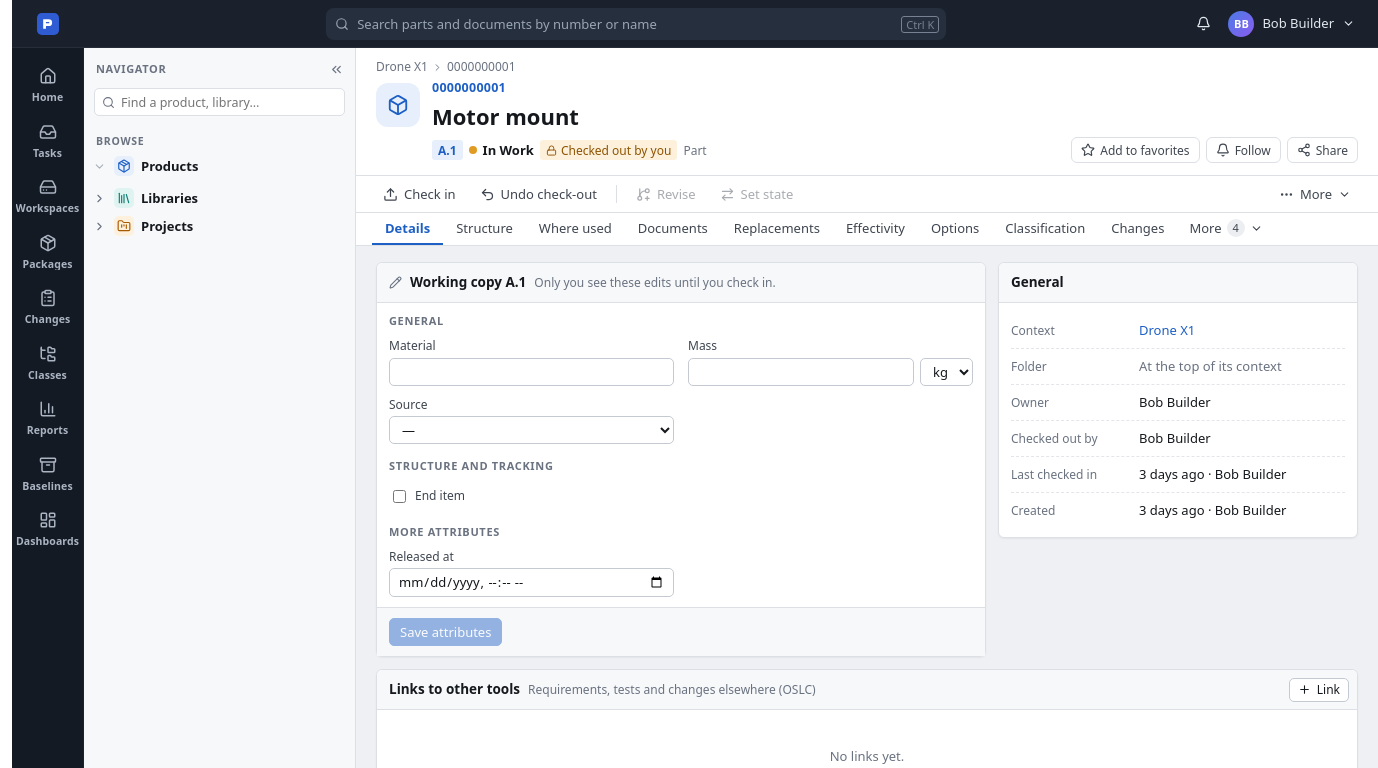
it: ObjectPage › shows server-side attribute errors next to the field
In the field labelled "Material": [532, 372] box [389,358,674,386], type "x"
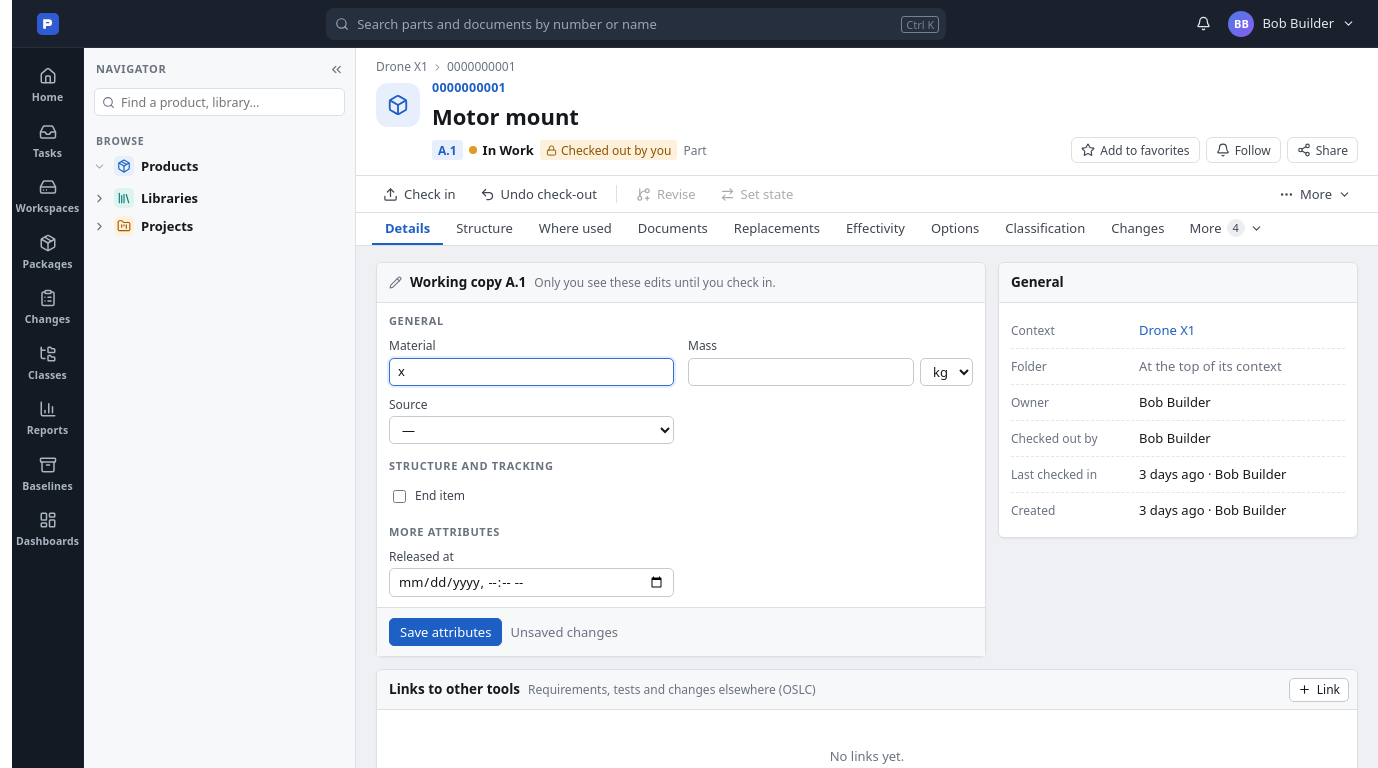
Click the button "Save attributes": [446, 632] box [389,618,502,646]
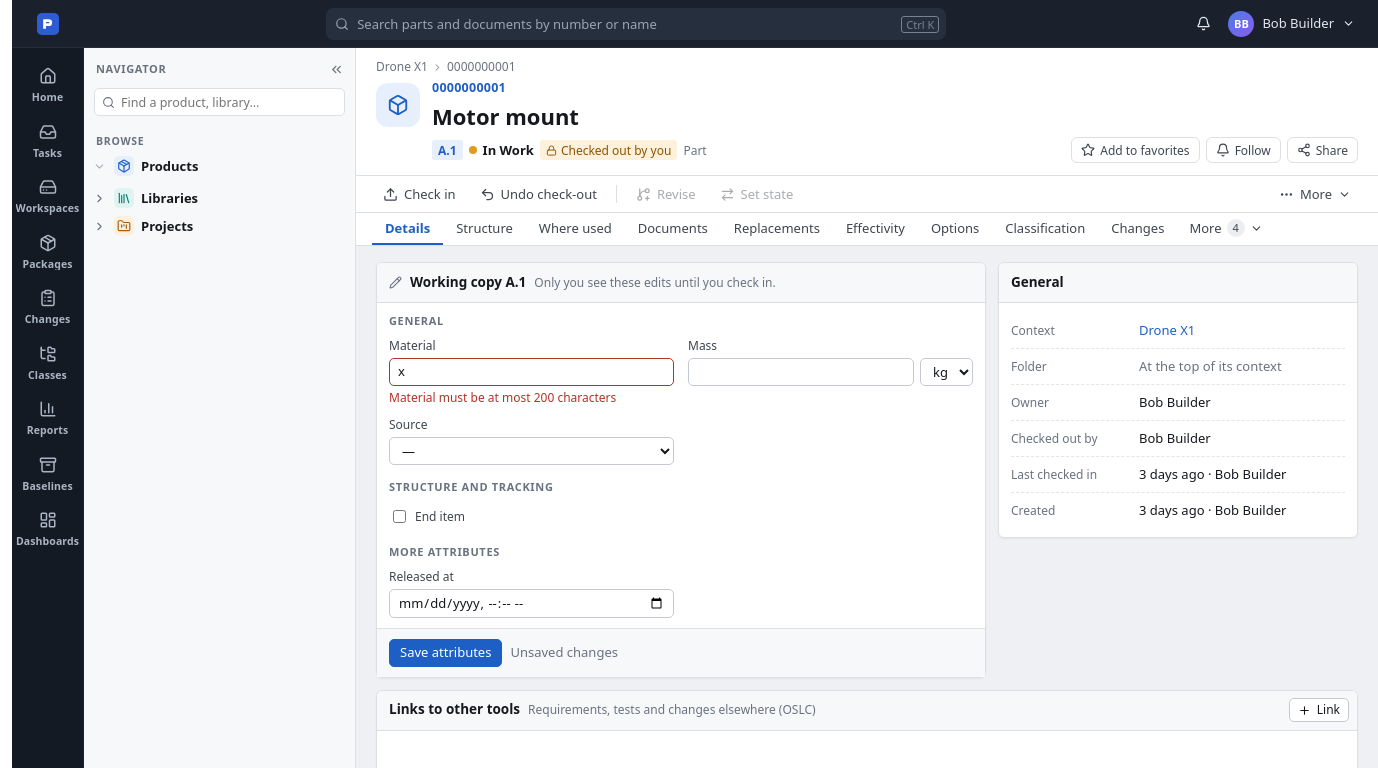
Result: the text "Material must be at most 200 characters" is shown at [389,389,616,406]
